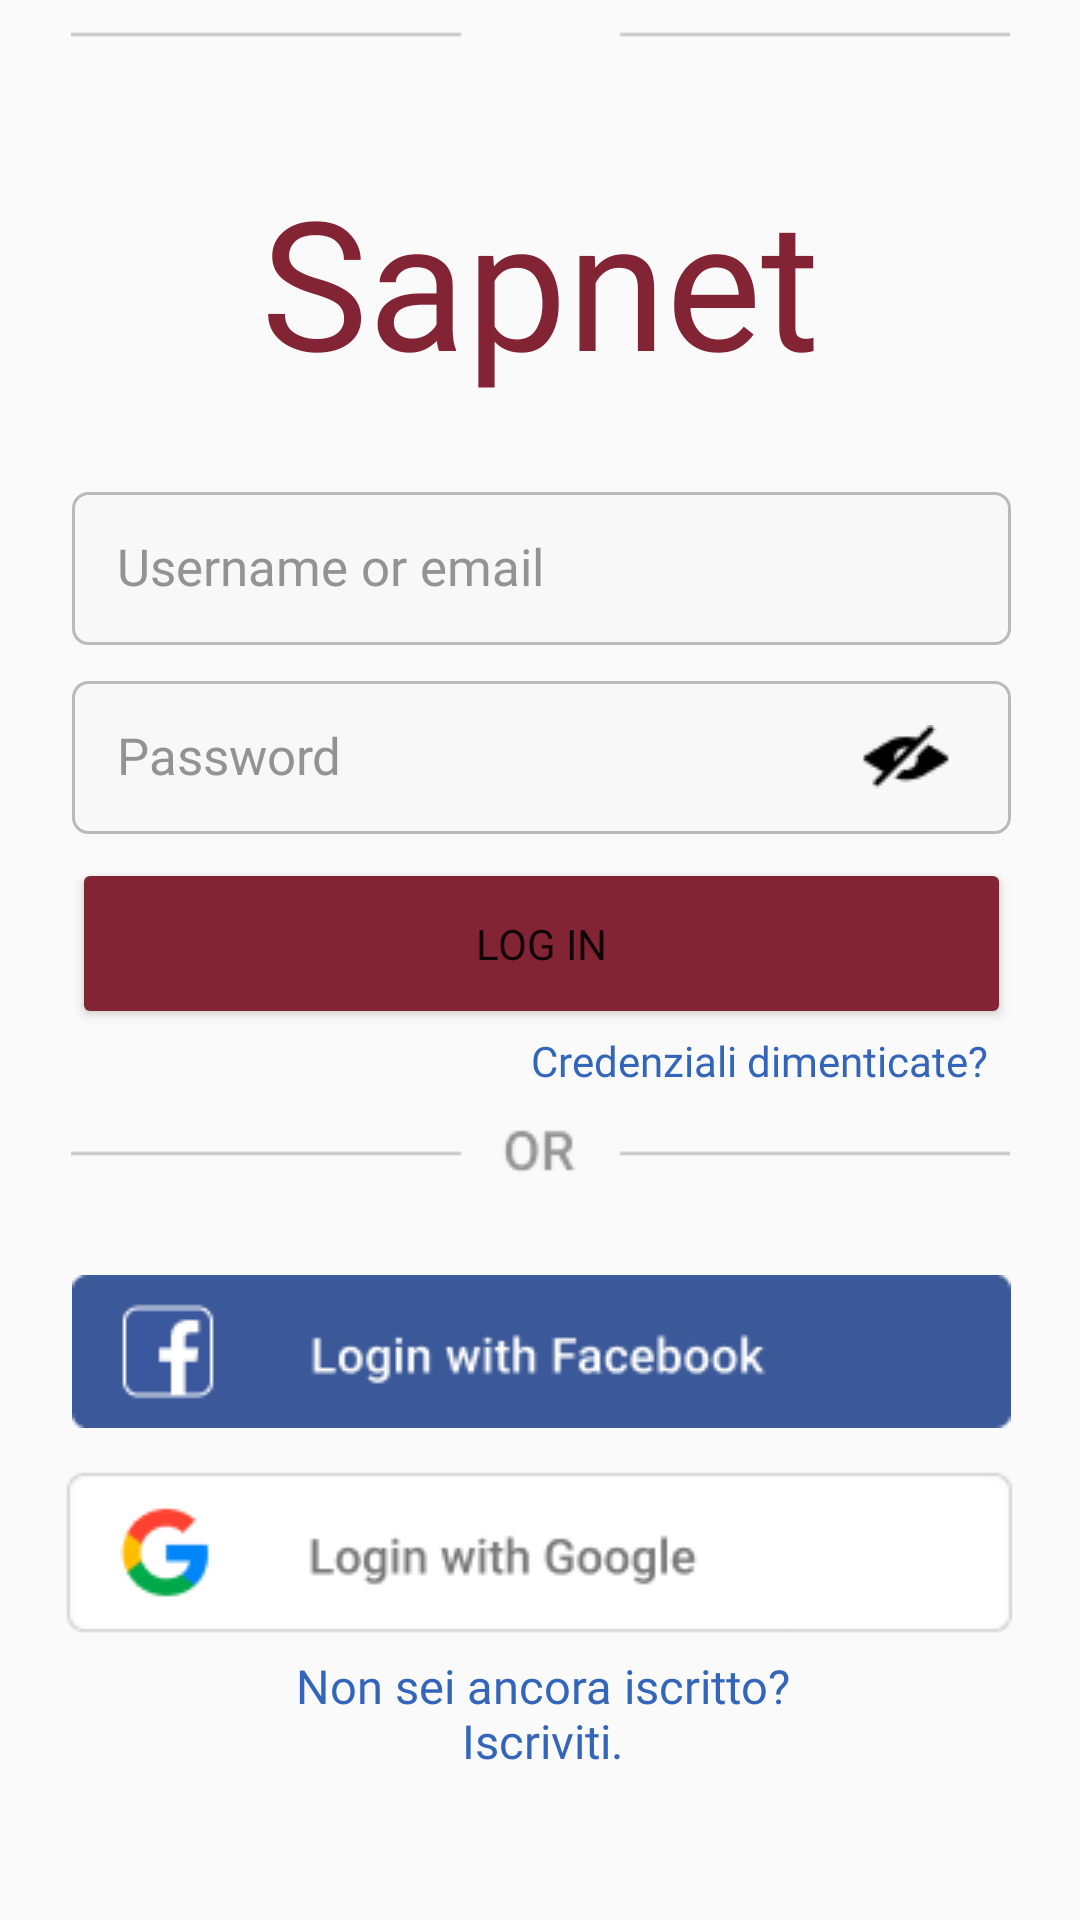

Where icons sit on this 1080 x 1920 app screen, as (x1, y1, x2, y2):
occhietto show pass: (863, 725, 949, 788)
